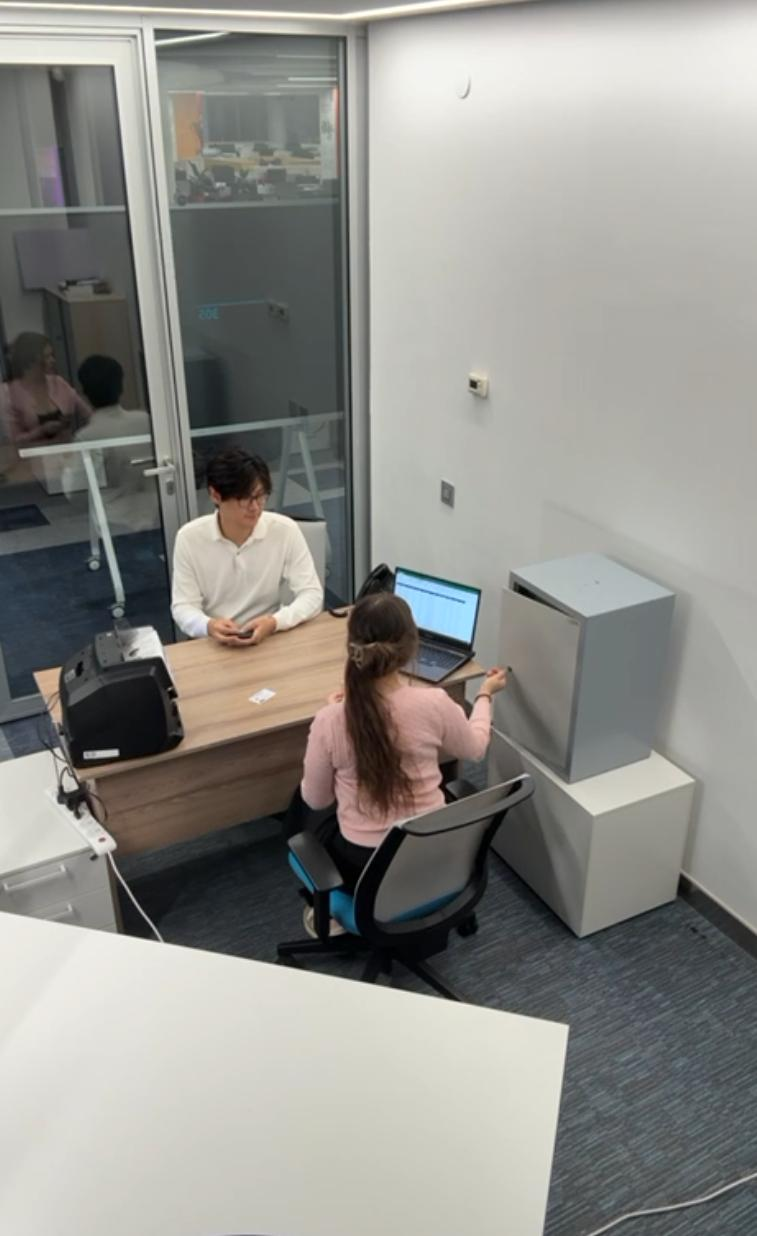counter: (56, 626, 192, 770)
document: (247, 684, 278, 707)
safe_open: (493, 551, 673, 784)
screen_on: (387, 569, 482, 651)
